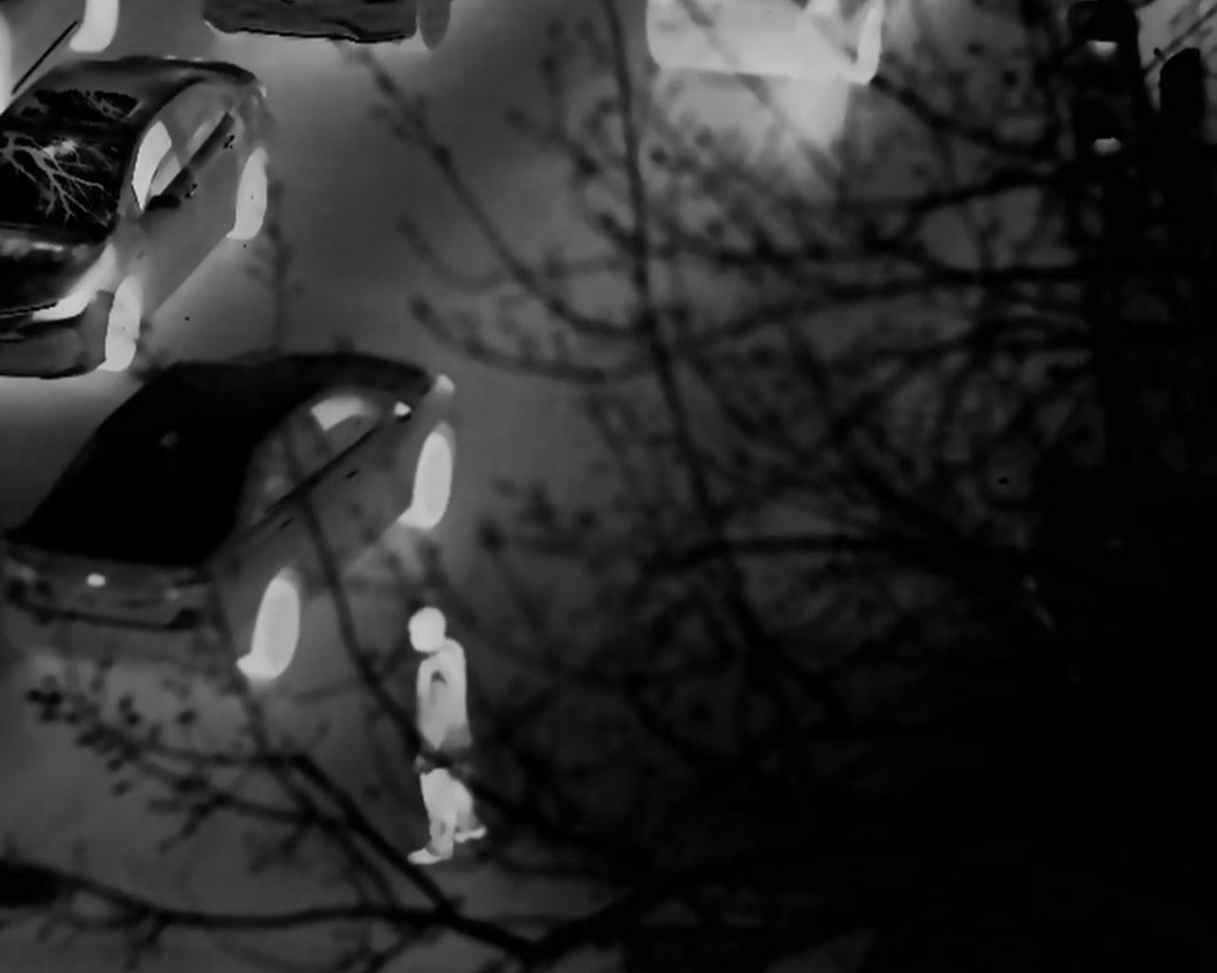person: (402, 601, 481, 853)
